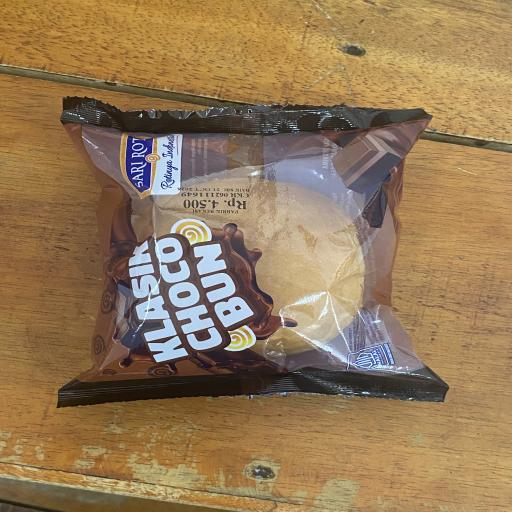Sari Roti Classic Choco Bun: (61, 98, 444, 406)
